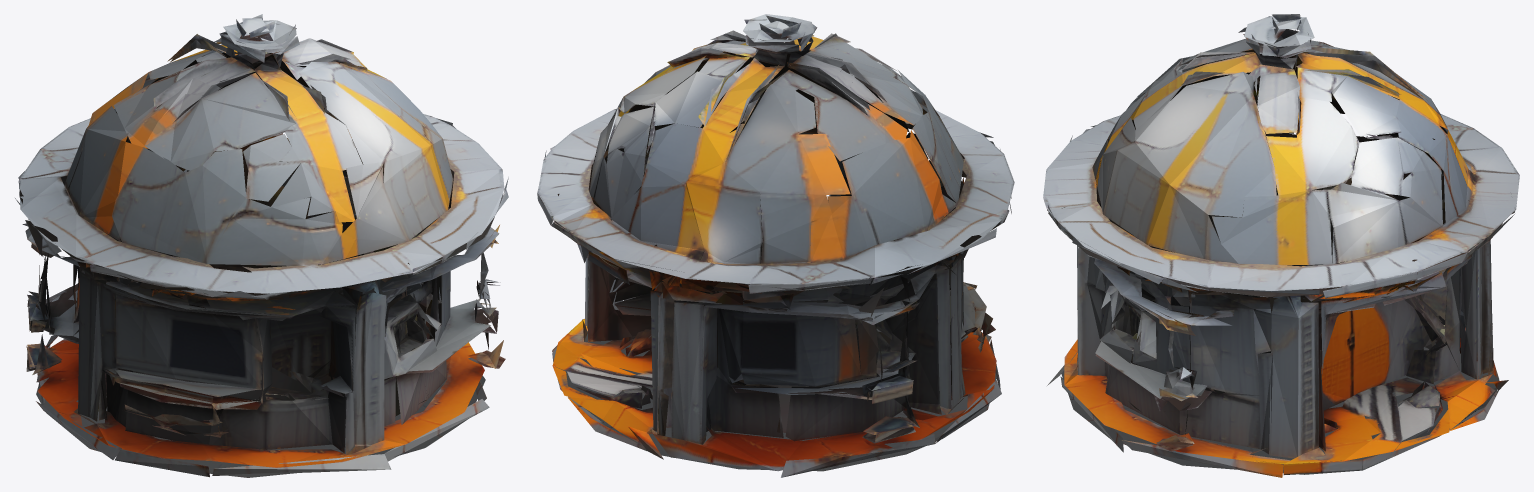
Rendered from military_dome_t1.fbx.
3 views of the same model, side by side, from view 1: azimuth 30°, elevation 25°; view 2: azimuth 150°, elevation 25°; view 3: azimuth 270°, elevation 25° (orthographic).
Visible parts, largest first — view 1: military_dome_t1; view 2: military_dome_t1; view 3: military_dome_t1.
Part boxes in pixels (bbox=[...]): military_dome_t1: bbox=[15, 14, 508, 477]; military_dome_t1: bbox=[537, 14, 1014, 477]; military_dome_t1: bbox=[1043, 14, 1519, 477].
Bounding box in the file's own units: 3.37 × 2.75 × 3.3.
Materials: 1 (1 with a texture image).
